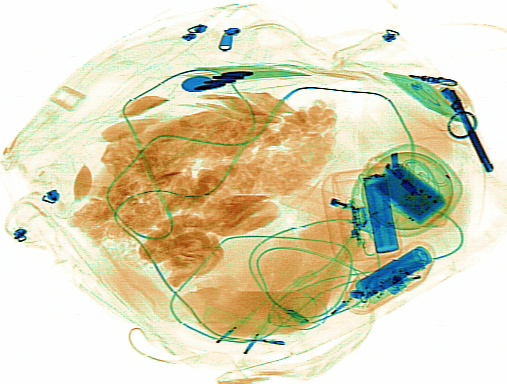lighter: (277, 177, 385, 235)
powerbank: (344, 240, 436, 313)
